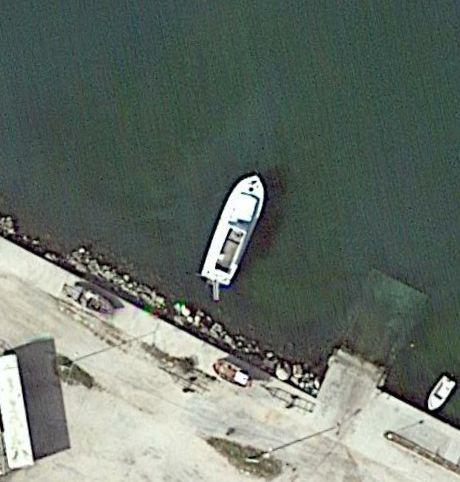Ships: (202, 165, 274, 302)
